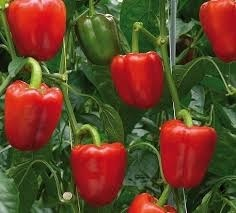fruit: (4, 79, 63, 150), (159, 118, 217, 190), (70, 141, 126, 207), (6, 1, 66, 61), (109, 49, 164, 110), (75, 12, 120, 67), (199, 1, 236, 62), (127, 192, 178, 213)
pedicle: (153, 200, 169, 210), (27, 84, 47, 90)
